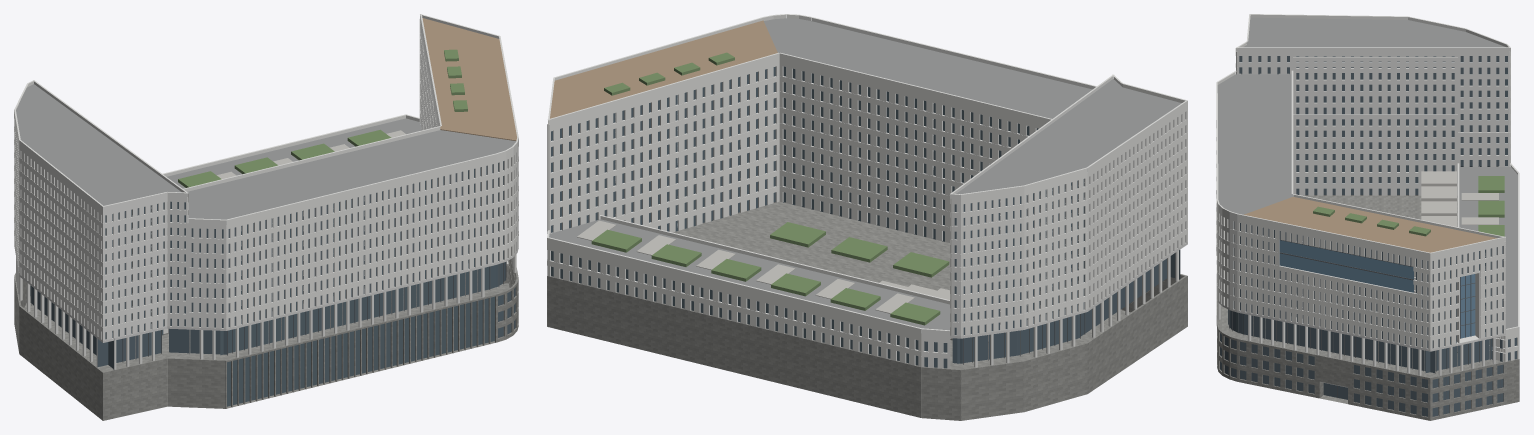
The picture shows the model from 3 angles, left to right: view 1: azimuth 30°, elevation 25°; view 2: azimuth 150°, elevation 25°; view 3: azimuth 270°, elevation 25°; orthographic projection. The views are drawn at different scales.
Parts seen in each view (by area): view 1: centennial__panel, centennial__glass, centennial__roof, centennial__podium, centennial__deck, centennial__column, centennial__plant, centennial__soffit, centennial__frame; view 2: centennial__panel, centennial__podium, centennial__roof, centennial__glass, centennial__plant, centennial__deck, centennial__paving, centennial__column, centennial__soffit; view 3: centennial__panel, centennial__glass, centennial__roof, centennial__podium, centennial__deck, centennial__glassBand, centennial__frame, centennial__paving, centennial__column, centennial__plant, centennial__soffit.
Part boxes in pixels (x1,y1,x2,y2): centennial__panel: (14,14,518,340); centennial__glass: (30,161,515,406); centennial__roof: (16,84,515,224); centennial__podium: (14,185,518,420); centennial__deck: (422,18,516,140); centennial__column: (16,254,516,369); centennial__plant: (178,49,467,187); centennial__soffit: (14,124,518,355); centennial__frame: (31,261,515,370); centennial__panel: (547,14,1187,369); centennial__podium: (547,178,1187,420); centennial__roof: (549,18,1181,332); centennial__glass: (551,66,1180,368); centennial__plant: (591,52,949,325); centennial__deck: (548,20,777,123); centennial__paving: (577,220,949,313); centennial__column: (553,228,1178,367); centennial__soffit: (551,140,1187,364); centennial__panel: (1216,14,1519,361); centennial__glass: (1220,56,1516,416); centennial__roof: (1217,17,1517,328); centennial__podium: (1216,195,1519,420); centennial__deck: (1244,197,1496,252); centennial__glassBand: (1279,240,1475,338); centennial__frame: (1220,166,1503,416); centennial__paving: (1421,171,1498,226); centennial__column: (1217,301,1495,375); centennial__plant: (1313,176,1504,236); centennial__soffit: (1217,166,1507,387).
Size of the model in its own units: 137 by 56.1 by 81.01.
11 materials, 1 textured.
